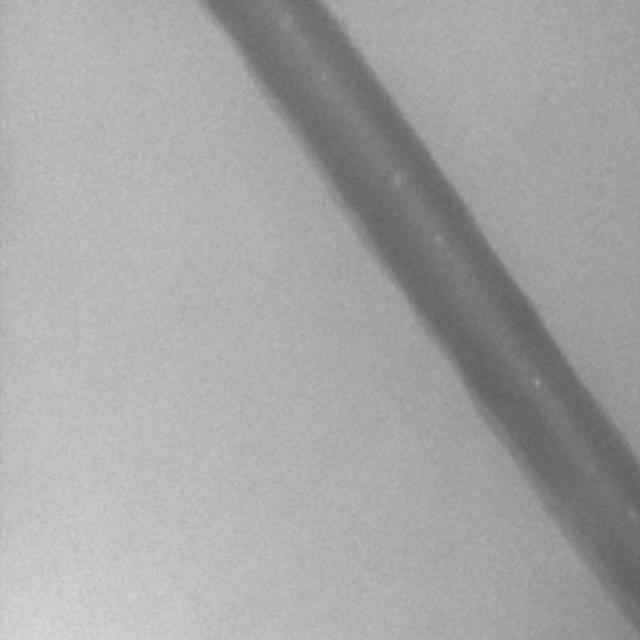air hole: (392, 172, 402, 186), (532, 376, 541, 389)
